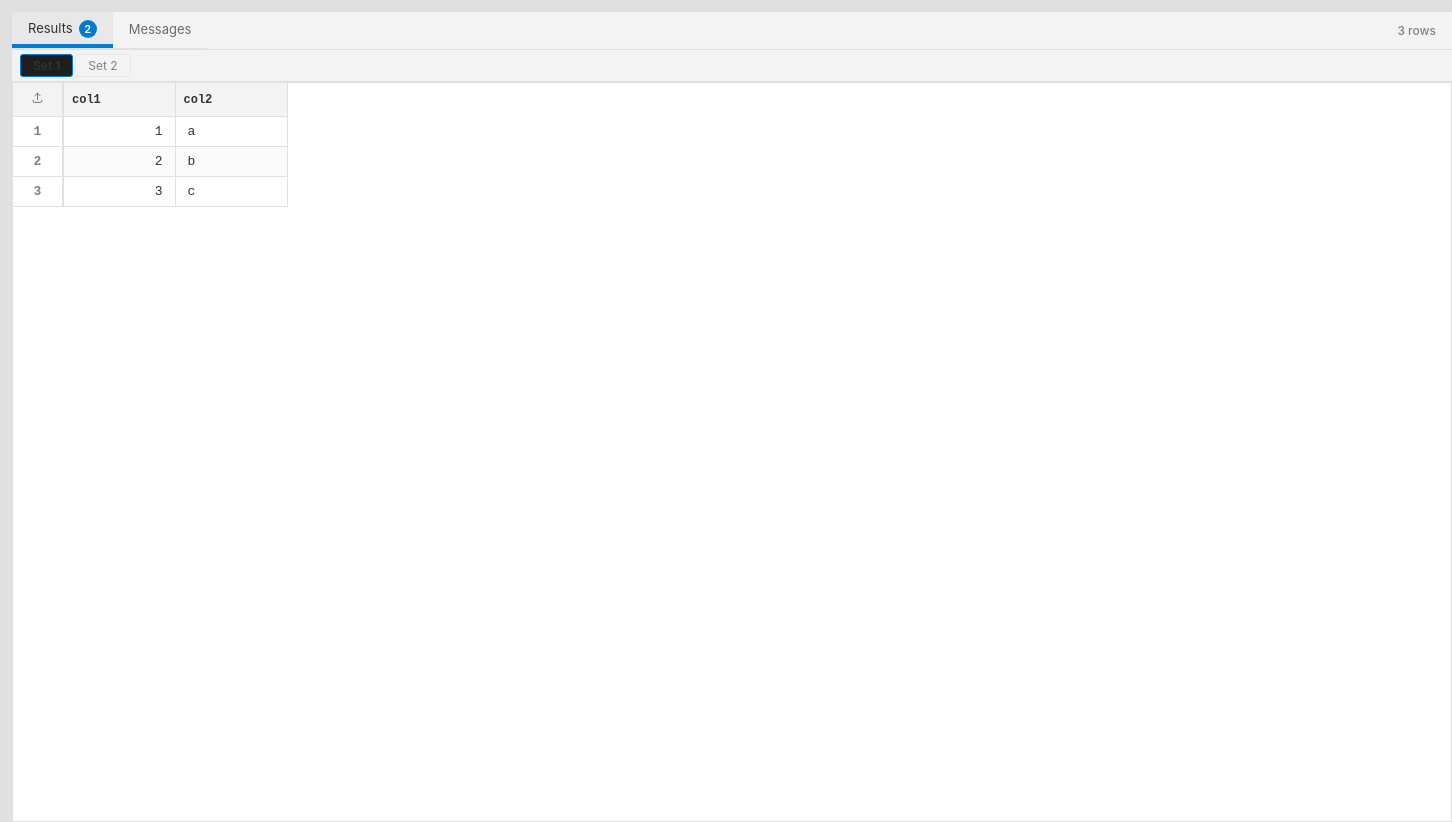
Test: ResultsPanel - multiple result sets display mode › updates row count when switching to a different Set tab
Expected: the text "3 rows" is shown, [1397, 23, 1436, 38]
Click the button "Set 2". click: (103, 66)
box: [75, 54, 131, 77]
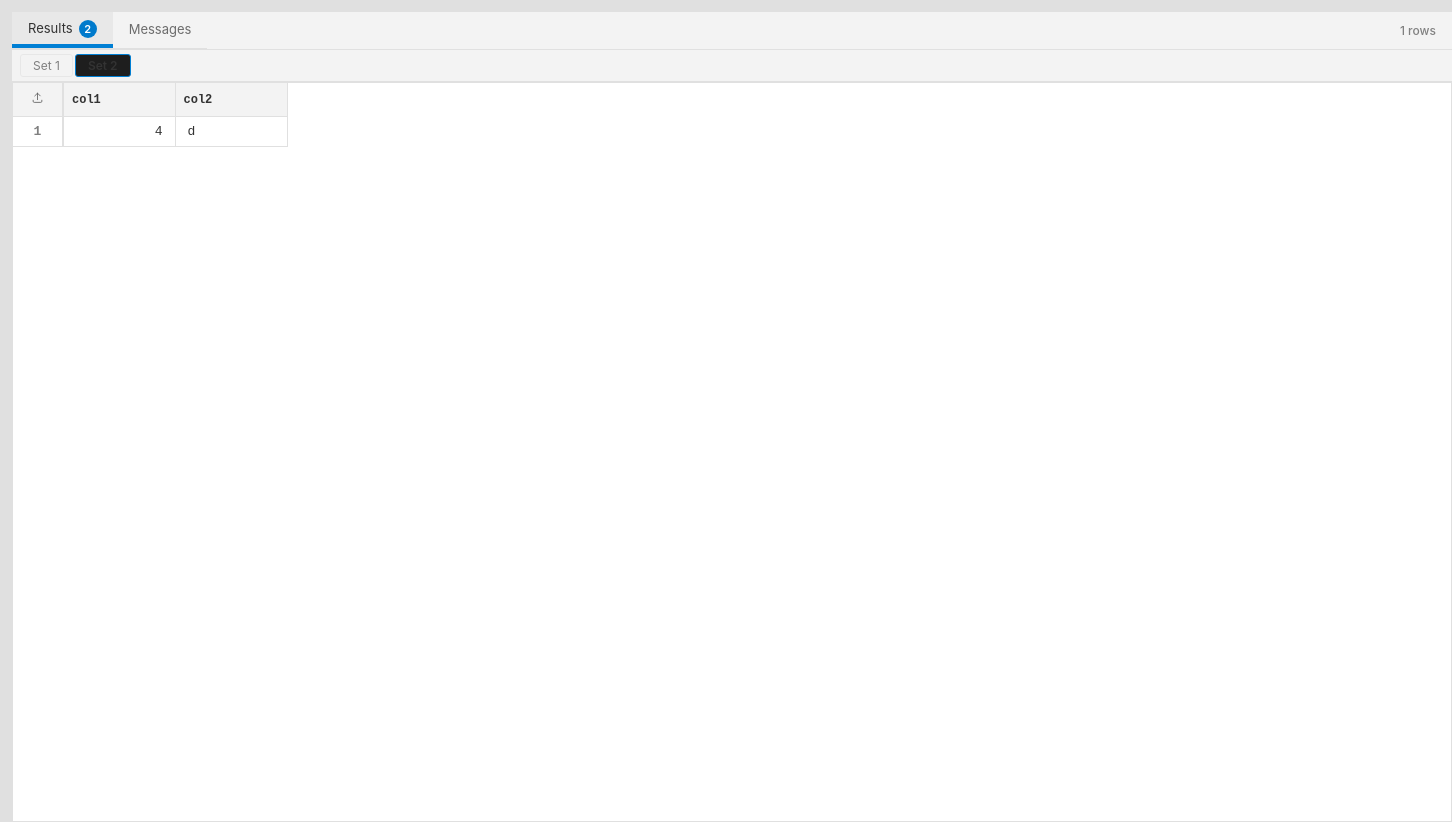
Now the text "1 rows" is shown, box [1400, 23, 1436, 38]
Now the text "3 rows" is gone
